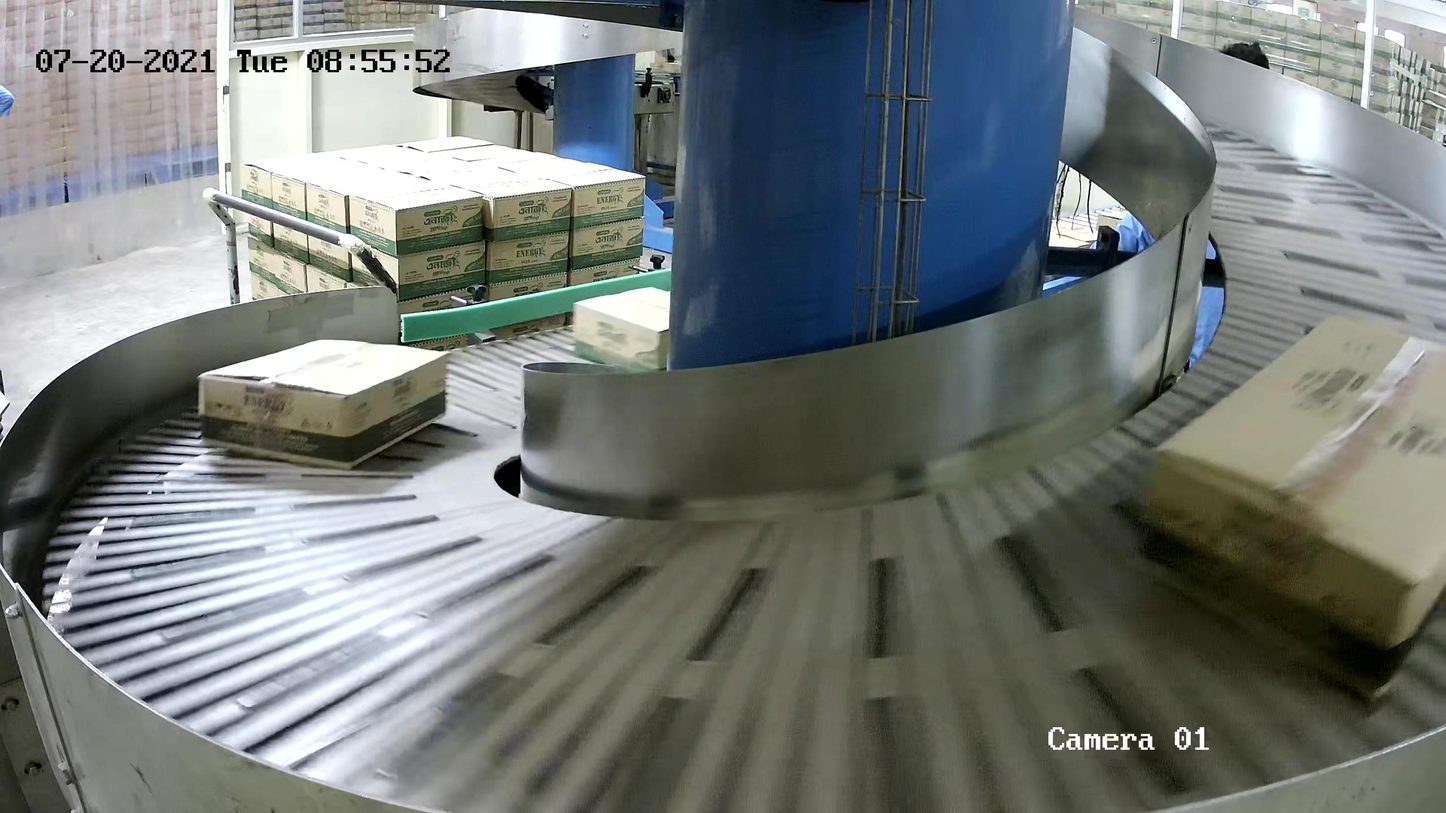Box: (1126, 305, 1446, 702), (193, 336, 453, 473), (573, 285, 702, 378)
